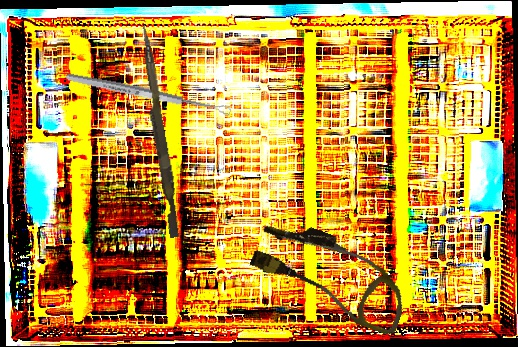Cannula: (242, 211, 420, 338)
Pusher: (133, 24, 185, 239)
Surgical Spoon: (65, 71, 232, 117)
